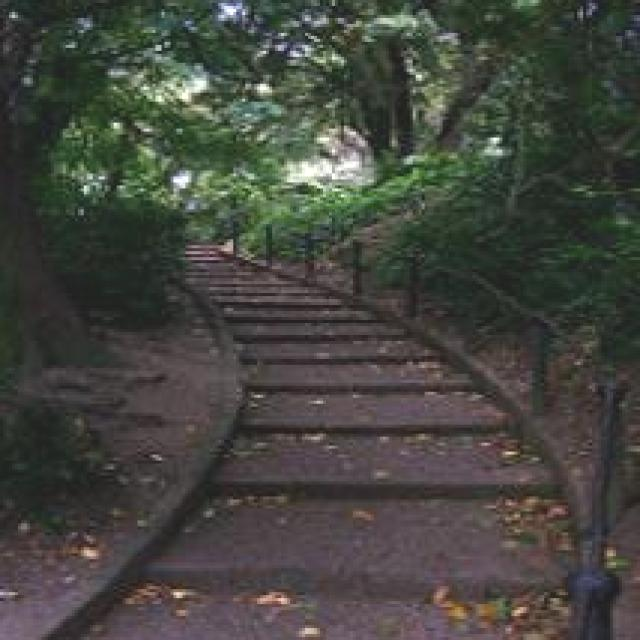upstair: (193, 279, 558, 599)
